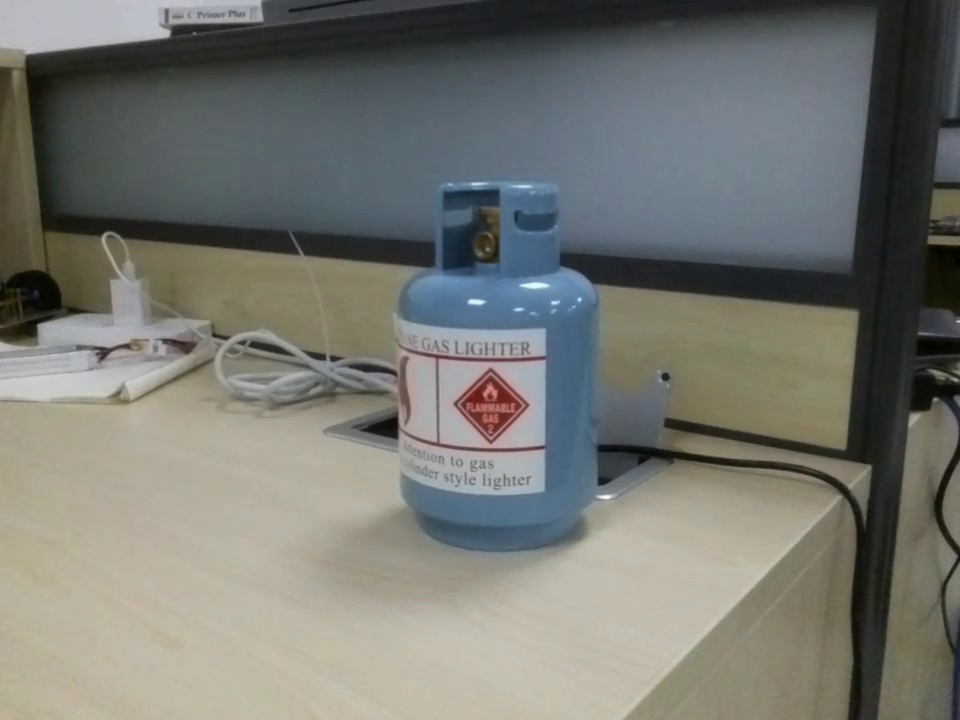gas tank: (391, 158, 612, 553)
